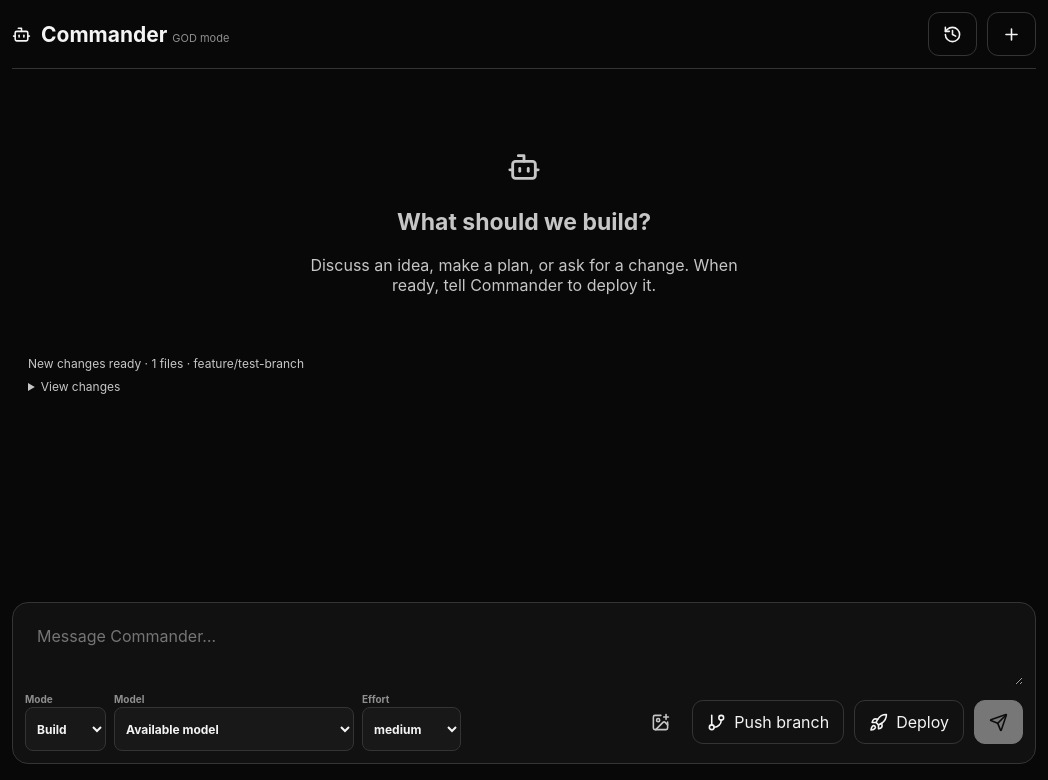
Test: pushes the committed hosted branch without starting deployment
The image size is (1048, 780).
Expected: the dropdown labelled "Model" shows "Available model", [114,707,354,751]
Click the button "Push branch". click: [768, 722]
box: [692,700,844,744]
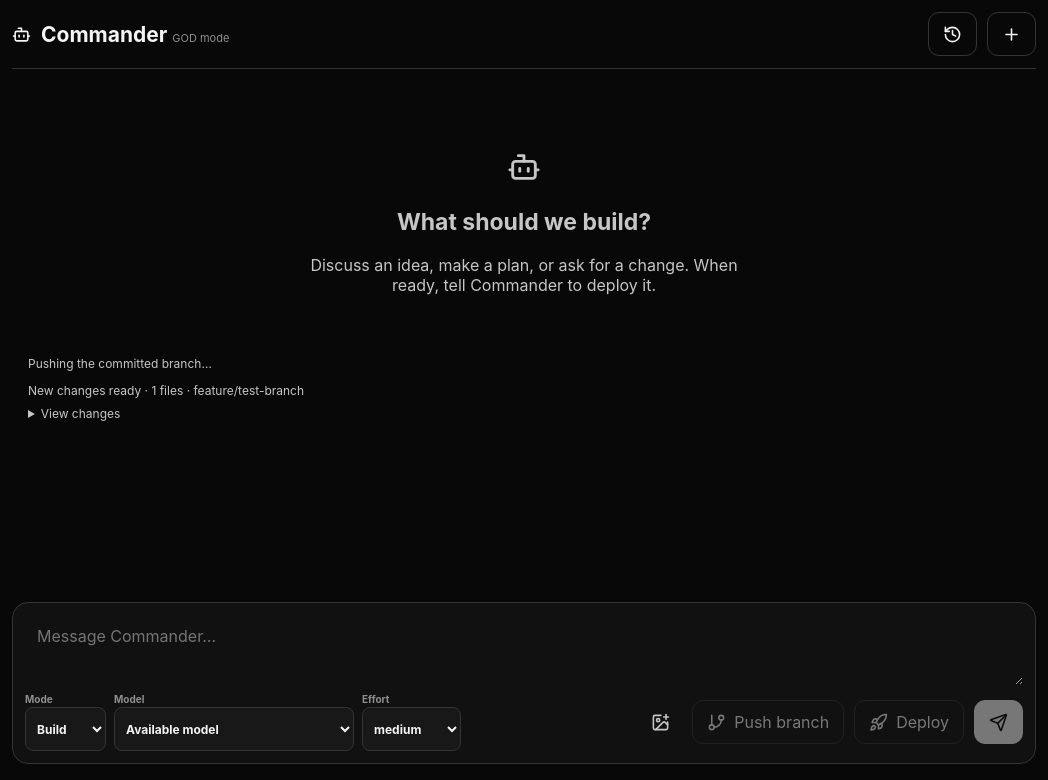
Now the text "Pushing the committed branch…" is shown, box [28,356,212,371]
